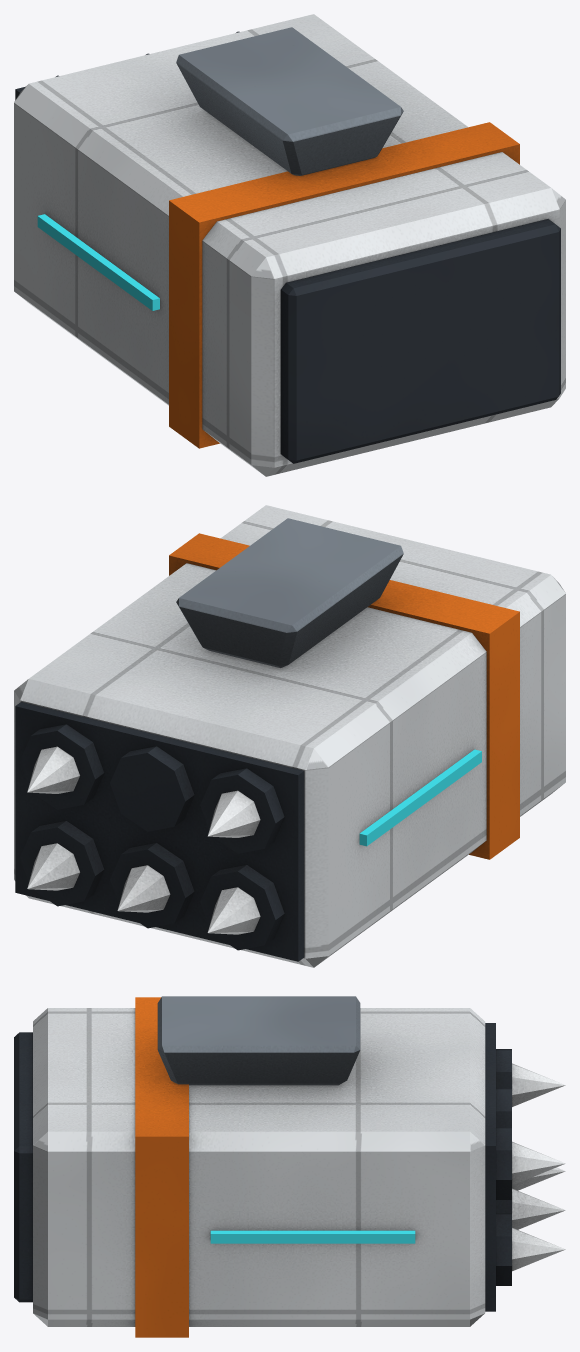
The model's file is arma_misiles_nave.fbx.
3 renders of one model, top to bottom at view 1: azimuth 30°, elevation 25°; view 2: azimuth 150°, elevation 25°; view 3: azimuth 270°, elevation 25°, orthographic. The views are drawn at different scales.
Visible parts, largest first — view 1: arma_misiles_nave, arma_misiles_nave_neon; view 2: arma_misiles_nave, arma_misiles_nave_neon, arma_misiles_nave_misil2, arma_misiles_nave_misil3, arma_misiles_nave_misil6, arma_misiles_nave_misil1, arma_misiles_nave_misil4; view 3: arma_misiles_nave, arma_misiles_nave_neon, arma_misiles_nave_misil1, arma_misiles_nave_misil4, arma_misiles_nave_misil6, arma_misiles_nave_misil2.
Part boxes in pixels (box(x1,y1,x2,y2)): arma_misiles_nave: box(14, 14, 565, 476); arma_misiles_nave_neon: box(37, 214, 159, 310); arma_misiles_nave: box(14, 505, 565, 967); arma_misiles_nave_neon: box(359, 749, 481, 846); arma_misiles_nave_misil2: box(117, 865, 170, 912); arma_misiles_nave_misil3: box(207, 887, 260, 934); arma_misiles_nave_misil6: box(207, 790, 260, 837); arma_misiles_nave_misil1: box(27, 843, 79, 890); arma_misiles_nave_misil4: box(27, 746, 79, 793); arma_misiles_nave: box(14, 996, 511, 1337); arma_misiles_nave_neon: box(210, 1230, 415, 1243); arma_misiles_nave_misil1: box(512, 1227, 565, 1271); arma_misiles_nave_misil4: box(512, 1141, 565, 1185); arma_misiles_nave_misil6: box(512, 1063, 565, 1106); arma_misiles_nave_misil2: box(512, 1188, 565, 1229).
Bounding box in the file's own units: 3.14 × 2.53 × 5.13.
2 materials, 2 textured.
